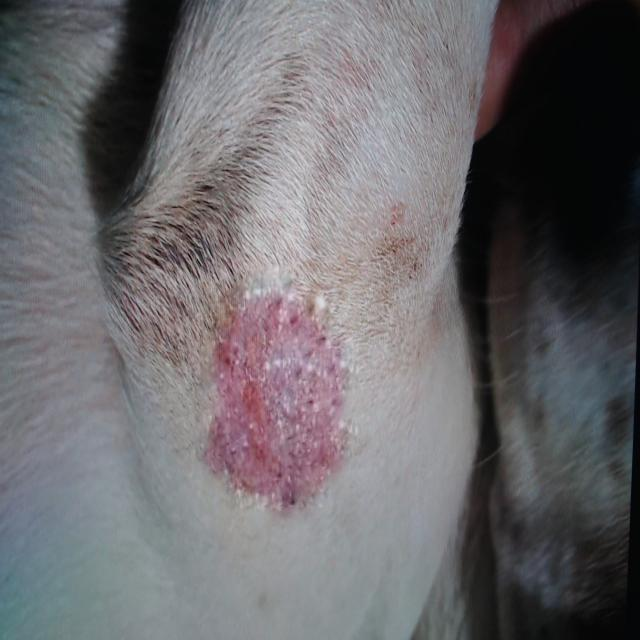ringworm: (208, 257, 359, 529)
